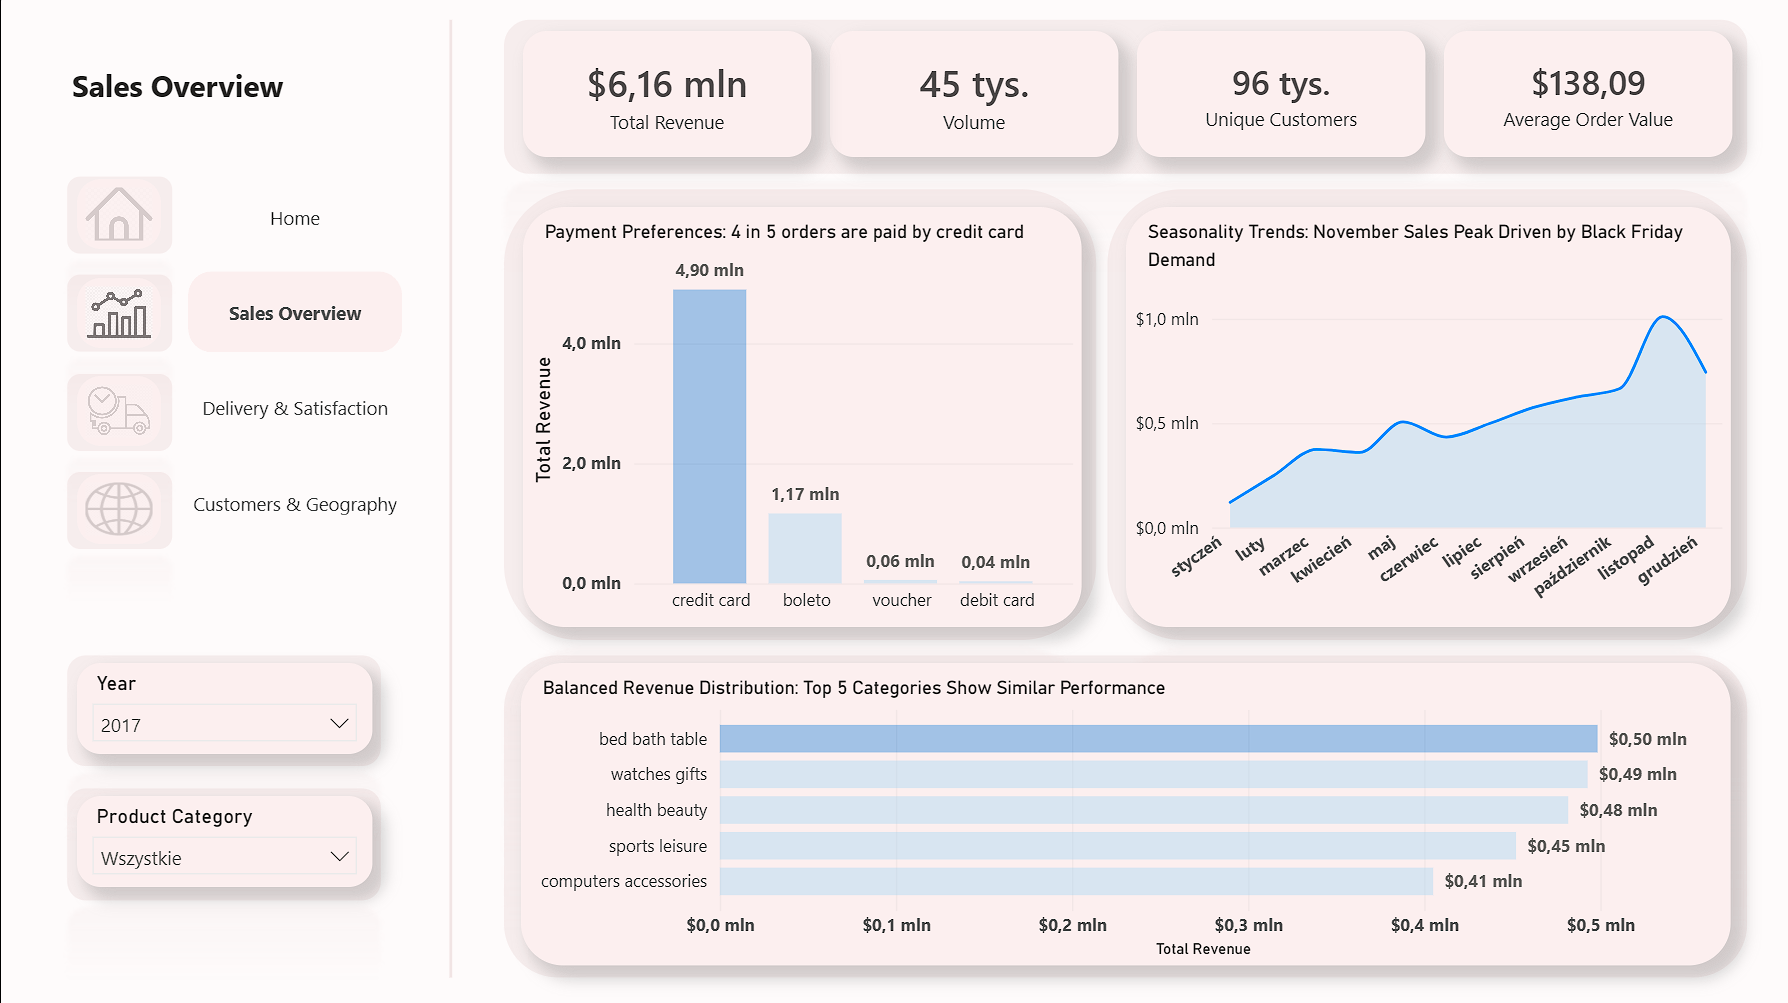

The dashboard page shown, as its layout file describes it:
{"tool":"powerbi","page":{"name":"Sales Overview","canvas":[1280,720],"ordinal":1},"visuals":[{"type":"lineChart","title":"⠀Seasonality Trends: November Sales Peak Driven by Black Friday ⠀Demand","fields":{"Y":["Measures (3).Total Sales"],"Category":["DimDate.MonthName"],"Series":["DimDate.Year"]},"box":[804.6,149.4,432.5,299.9],"z":0},{"type":"barChart","title":"⠀Balanced Revenue Distribution: Top 5 Categories Show Similar Performance","fields":{"Y":["Measures (3).Total Sales"],"Category":["DimProduct.product_category"]},"box":[372.1,475.1,864,215.8],"z":1000},{"type":"slicer","fields":{"Values":["DimProduct.product_category"]},"box":[55,570,211.2,65],"z":2000},{"type":"cardVisual","fields":{"Data":["Measures (3).Total Orders"]},"box":[592.9,23.8,206,90],"z":3000},{"type":"cardVisual","fields":{"Data":["Measures (3).Unique Customers"]},"box":[812.1,23.8,206,90],"z":4000},{"type":"cardVisual","fields":{"Data":["Measures (3).Average Order Value"]},"box":[1031.2,23.8,206,90],"z":5000},{"type":"cardVisual","fields":{"Data":["Measures (3).Total Sales"]},"box":[373.8,23.8,206,90],"z":6000},{"type":"actionButton","box":[55,200,60,50],"z":7000},{"type":"actionButton","box":[55,270,60,50],"z":8000},{"type":"actionButton","box":[55,129,60,50],"z":9000},{"type":"textbox","box":[46.5,42.6,280.1,51.5],"z":10000},{"type":"pageNavigator","box":[134,127,153,265],"z":11000},{"type":"actionButton","box":[55,340,60,50],"z":12000},{"type":"clusteredColumnChart","title":"⠀Payment Preferences: 4 in 5 orders are paid by credit card","fields":{"Y":["Measures (3).Total Sales"],"Category":["DimPayment.payment_type"]},"box":[373.3,149.3,399.4,299.9],"z":13000},{"type":"slicer","fields":{"Values":["DimDate.Year"]},"box":[55,475,211,65],"z":14000}]}

Visuals, with their boxes in screenshot pixels (x1, y1, x2, y2), scaled from the page's 1280x720 canvas onto the 1788x1003 screenshot:
"⠀Seasonality Trends: November Sales Peak Driven by Black Friday ⠀Demand" lineChart: bbox(1124, 208, 1728, 626)
"⠀Balanced Revenue Distribution: Top 5 Categories Show Similar Performance" barChart: bbox(520, 662, 1727, 962)
slicer - DimProduct.product_category: bbox(77, 794, 372, 885)
cardVisual - Measures (3).Total Orders: bbox(828, 33, 1116, 159)
cardVisual - Measures (3).Unique Customers: bbox(1134, 33, 1422, 159)
cardVisual - Measures (3).Average Order Value: bbox(1440, 33, 1728, 159)
cardVisual - Measures (3).Total Sales: bbox(522, 33, 810, 159)
actionButton: bbox(77, 279, 161, 348)
actionButton: bbox(77, 376, 161, 446)
actionButton: bbox(77, 180, 161, 249)
textbox: bbox(65, 59, 456, 131)
pageNavigator: bbox(187, 177, 401, 546)
actionButton: bbox(77, 474, 161, 543)
"⠀Payment Preferences: 4 in 5 orders are paid by credit card" clusteredColumnChart: bbox(521, 208, 1079, 626)
slicer - DimDate.Year: bbox(77, 662, 372, 752)
